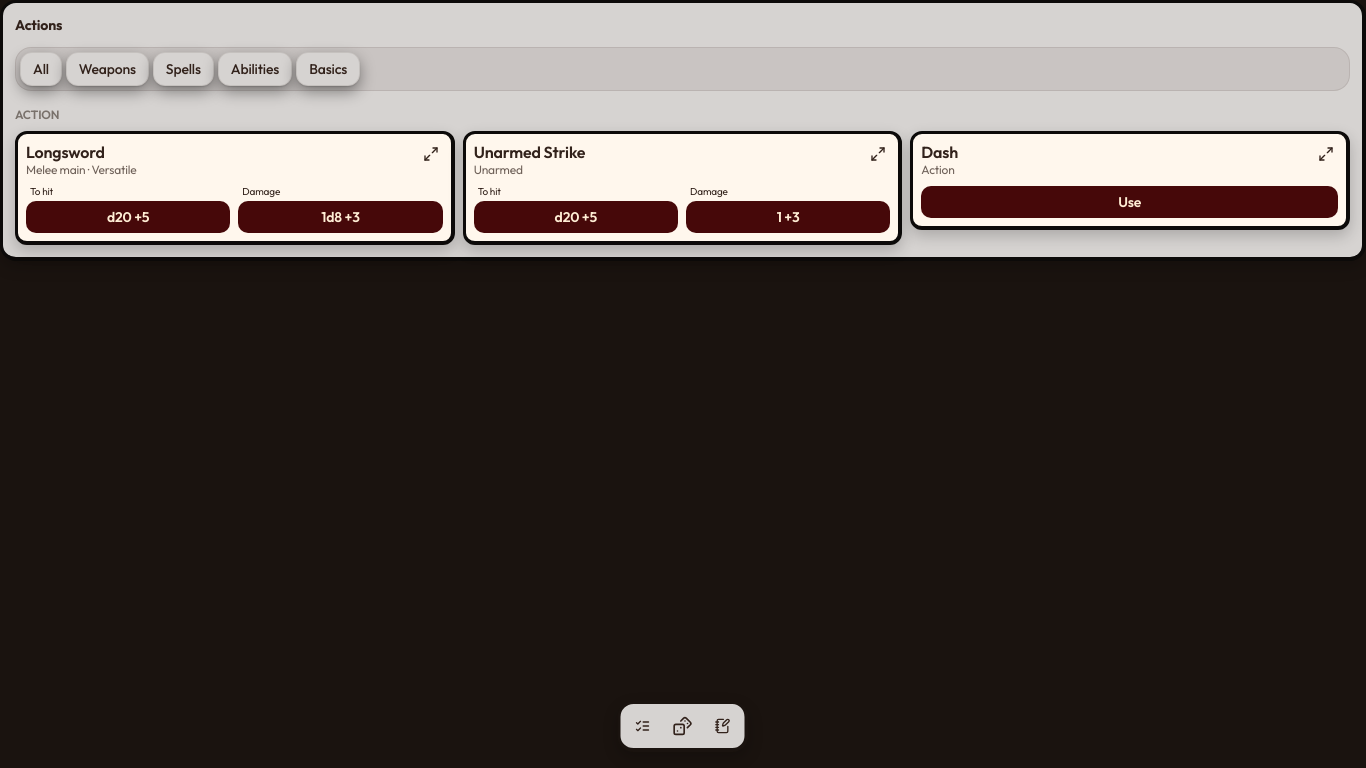
Test: AttacksActionsPanel roll integration › opens attack-only roll for longsword
Click the button "d20 +5" below "Melee main · Versatile": click(128, 216) [26, 200, 230, 232]
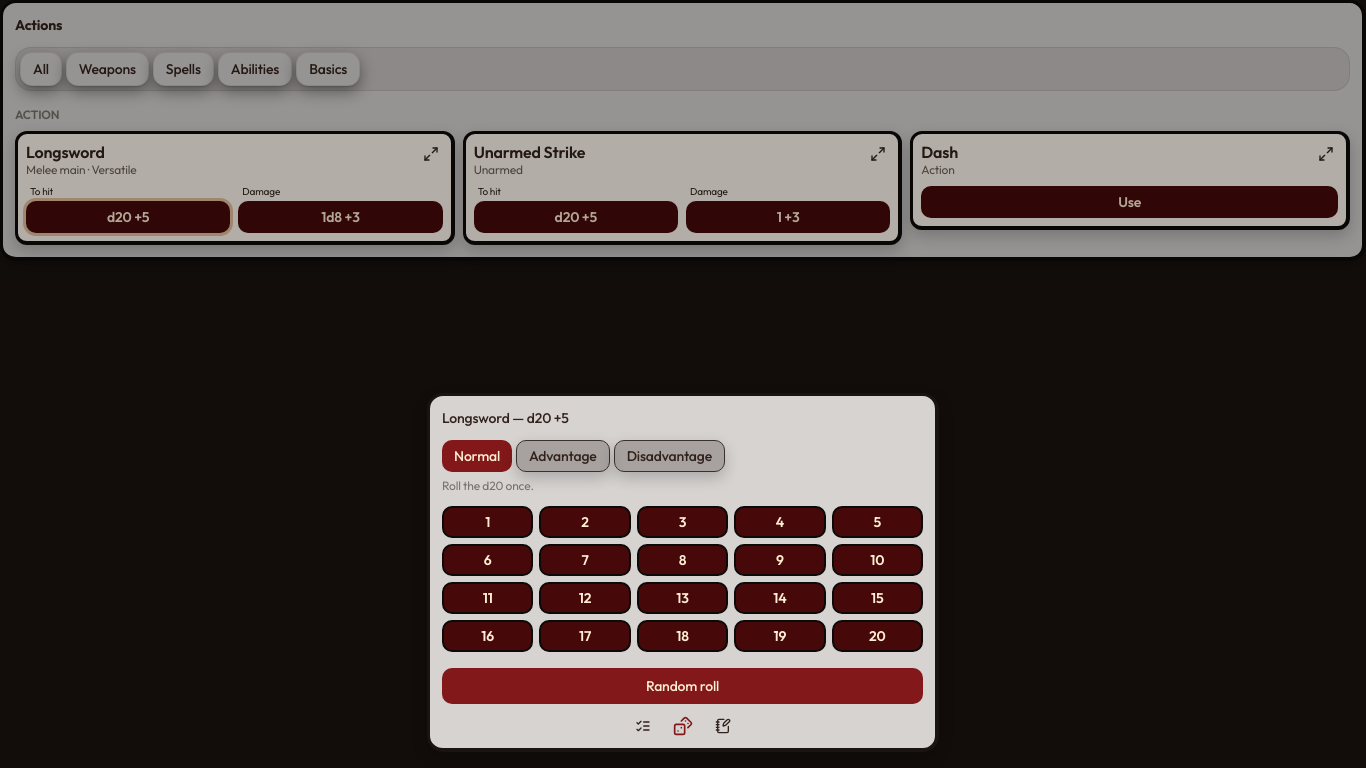
Expected: the text "Longsword — d20 +5" is shown, [442, 409, 569, 427]
